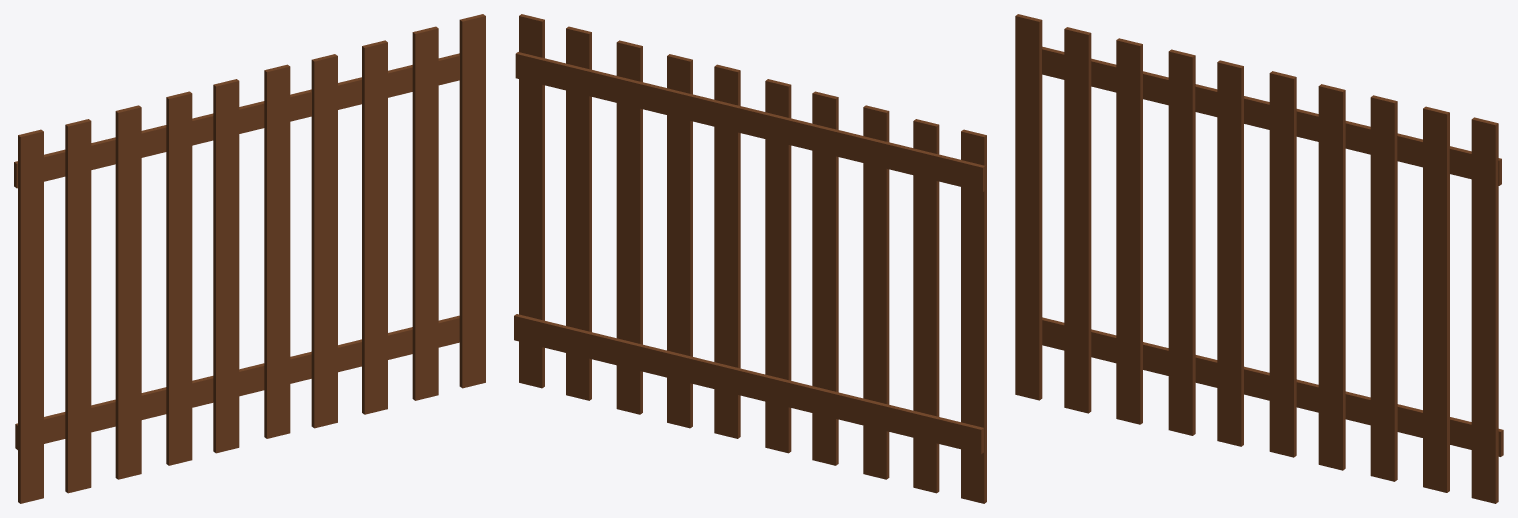
The model's file is Barda.fbx.
3 renders of one model, left to right at view 1: azimuth 30°, elevation 25°; view 2: azimuth 150°, elevation 25°; view 3: azimuth 330°, elevation 25°, orthographic. The views are drawn at different scales.
Parts seen in each view (by area): view 1: Group2, Group3, Group4; view 2: Group2, Group4, Group3; view 3: Group2, Group4, Group3.
Boxes of the visible parts, x1,y1,x2,y2 form: Group2: (18, 14, 485, 503); Group3: (14, 53, 459, 188); Group4: (15, 315, 459, 449); Group2: (519, 14, 986, 503); Group4: (514, 314, 983, 454); Group3: (515, 52, 985, 191); Group2: (1015, 14, 1498, 503); Group4: (1042, 317, 1503, 456); Group3: (1042, 46, 1501, 185).
Bounding box in the file's own units: 201 × 154 × 4.
